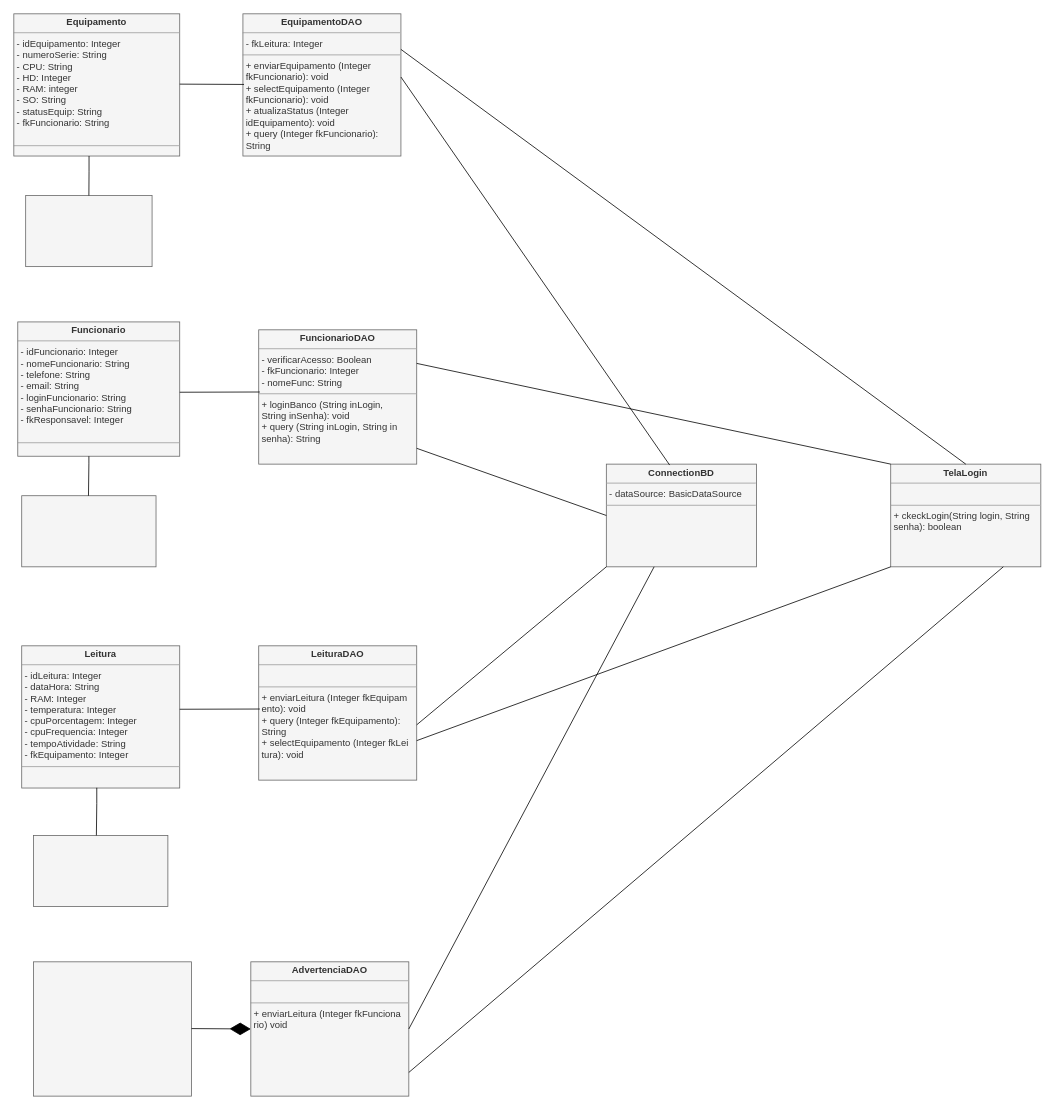
Image size: 1055x1110. Some labels were removed from this diagram. The shapes that lost their labels are listed below. From the top down, each one's centre as x and y in pixels, then its label:
At pixel 88 231: "EquipamentoMaper + mapRow (ResultSet rs, int rowNum): Equipamento".
At pixel 88 531: "FuncionarioMaper + mapRow (ResultSet rs, int rowNum): Equipamento".
At pixel 100 871: "LeituraMaper + mapRow (ResultSet rs, int rowNum): Equipamento".
At pixel 112 1028: "Slack + sendMessage(): void + enviarMensagem (String nome Func): void".
